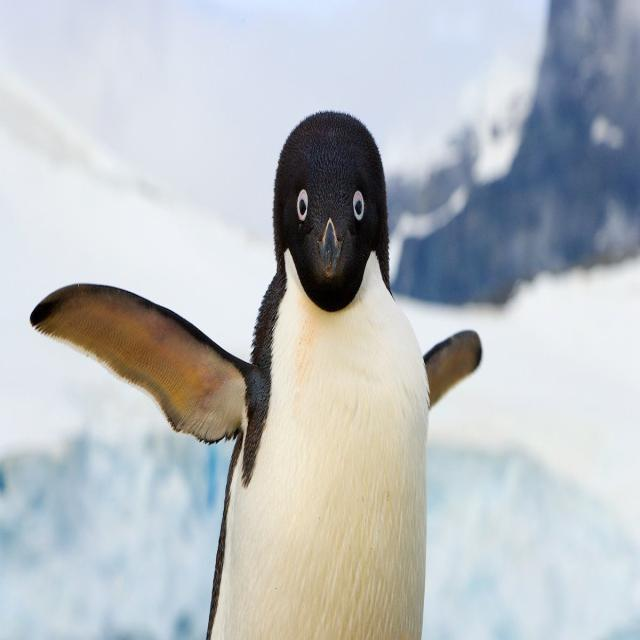penguin: (30, 112, 481, 639)
